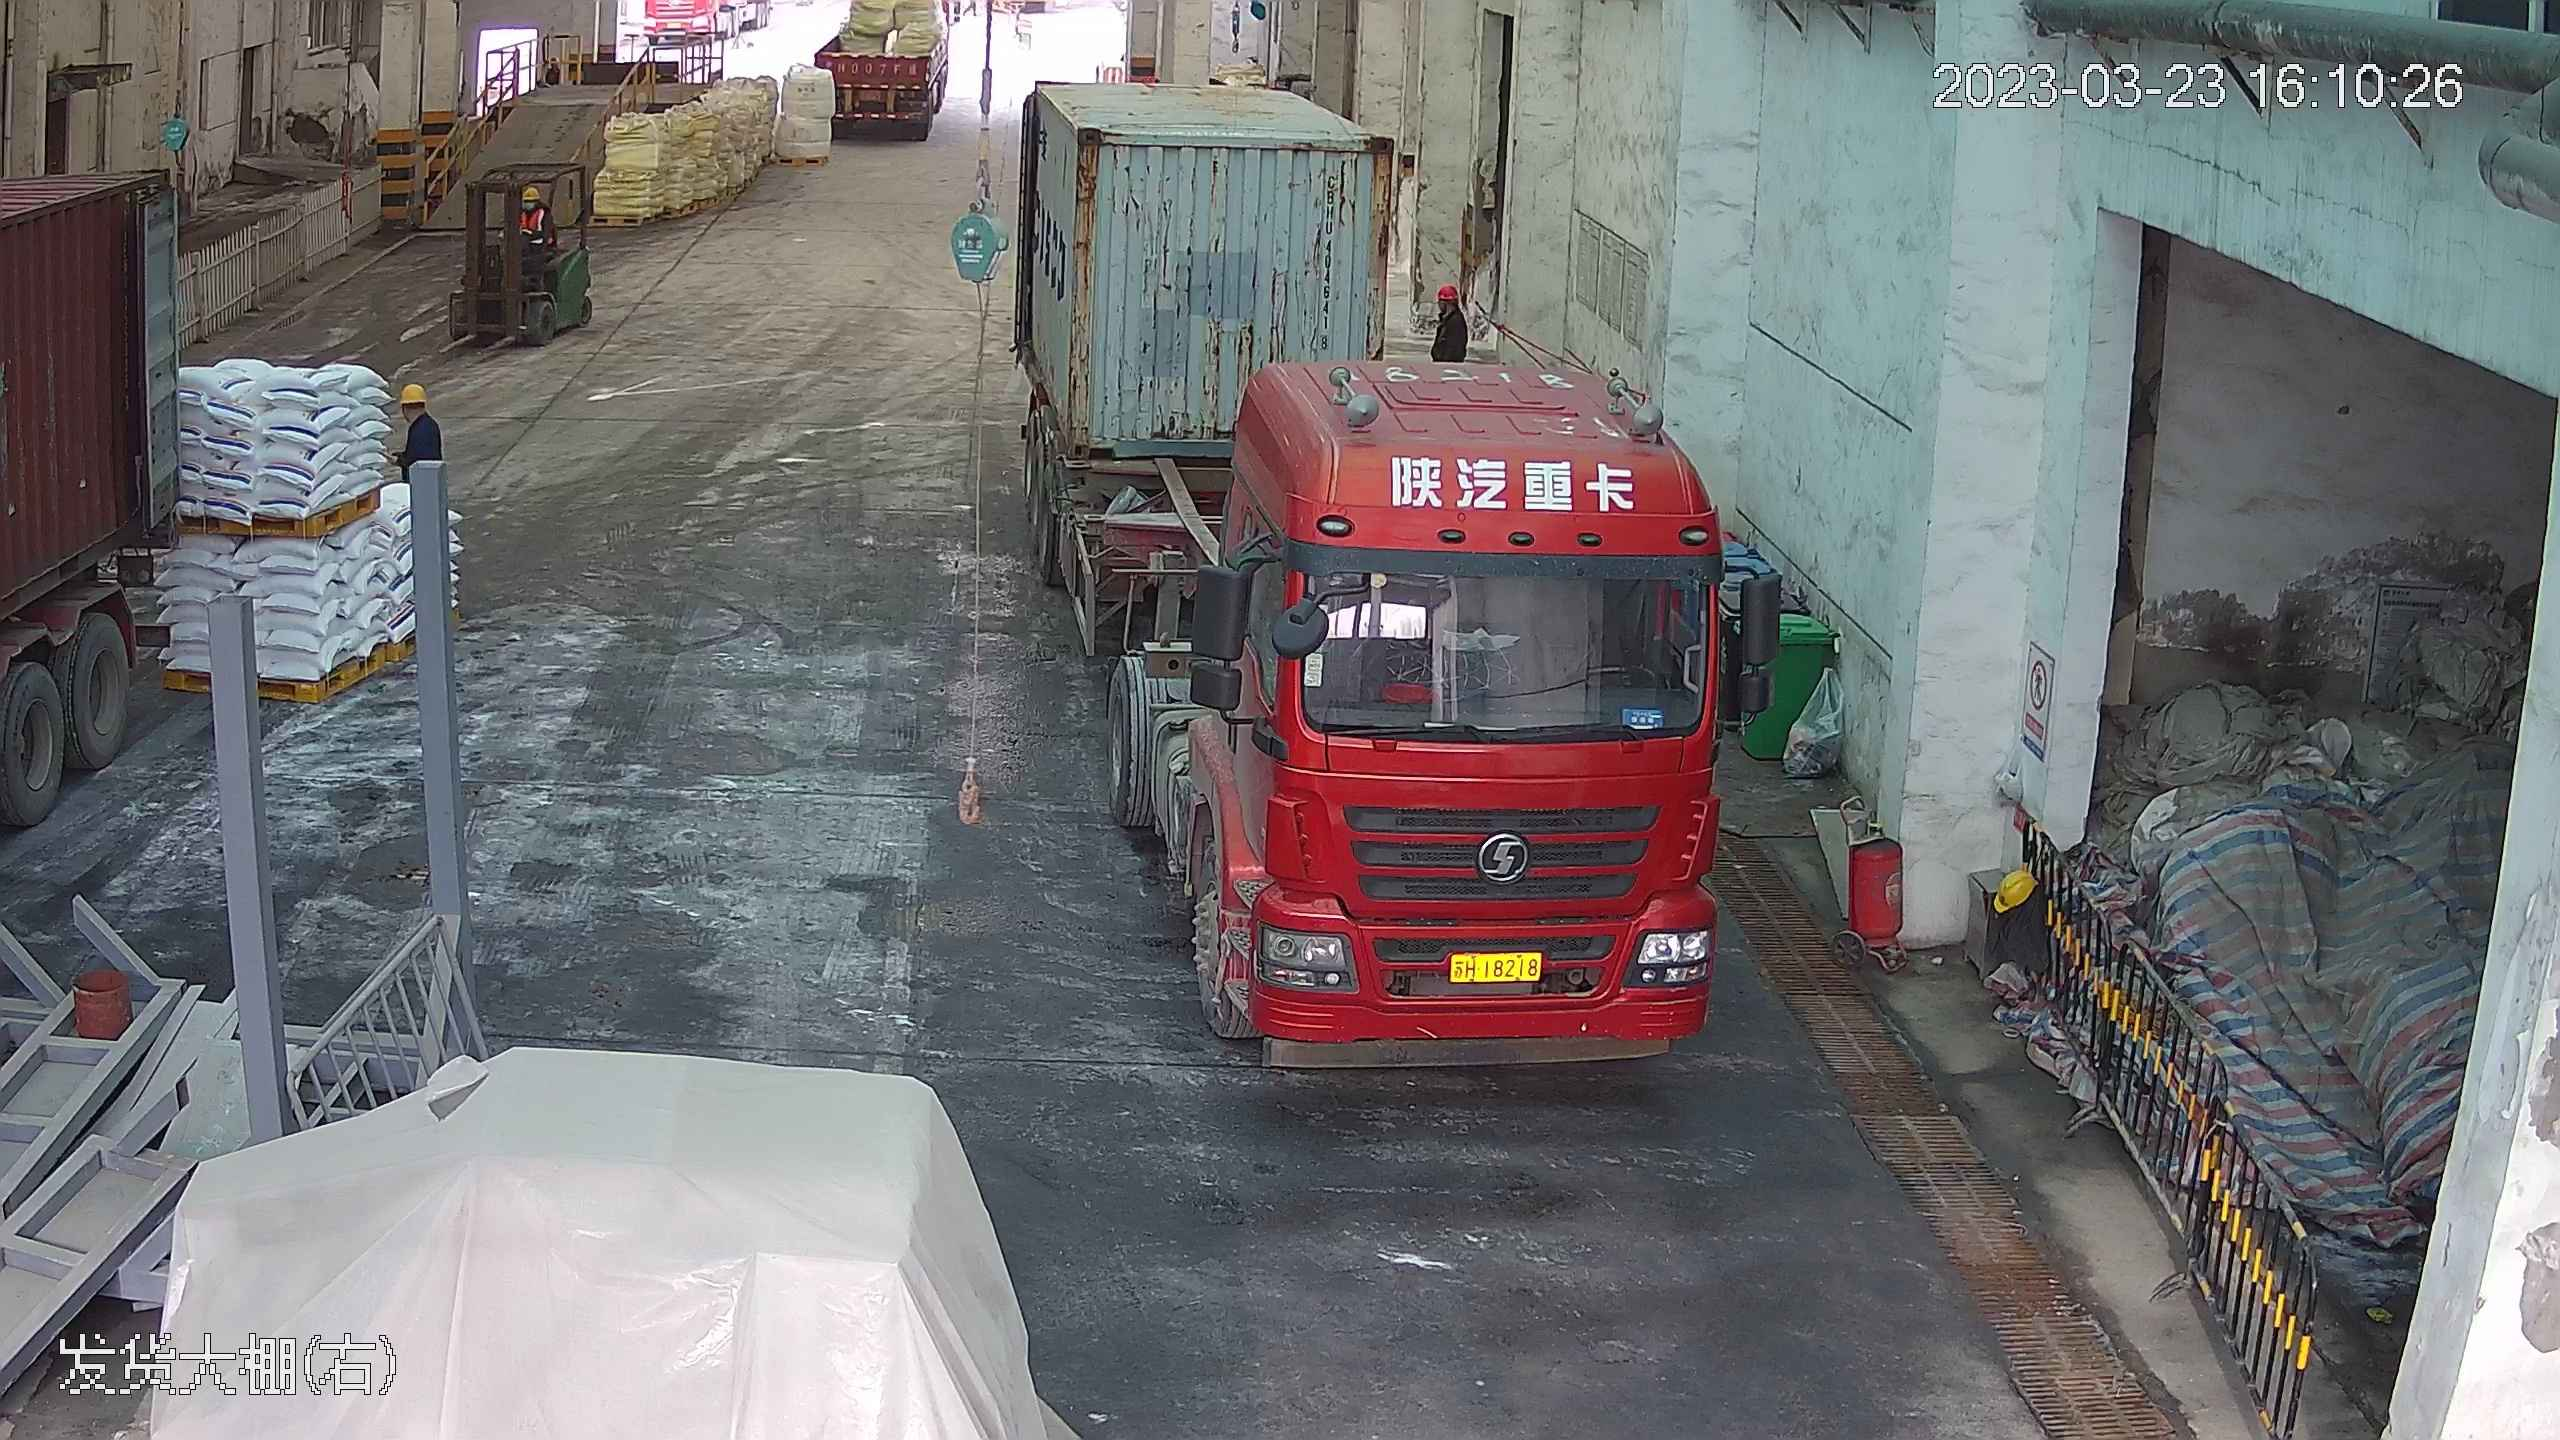head: (395, 380, 440, 442), (1427, 275, 1474, 331), (515, 184, 550, 224)
helmet: (1992, 862, 2038, 914), (399, 379, 427, 403), (1435, 274, 1463, 296), (520, 186, 540, 203)
people: (395, 377, 448, 581), (1423, 274, 1474, 357)
truck: (999, 39, 1741, 1074), (1, 21, 194, 1086), (802, 1, 954, 144)
